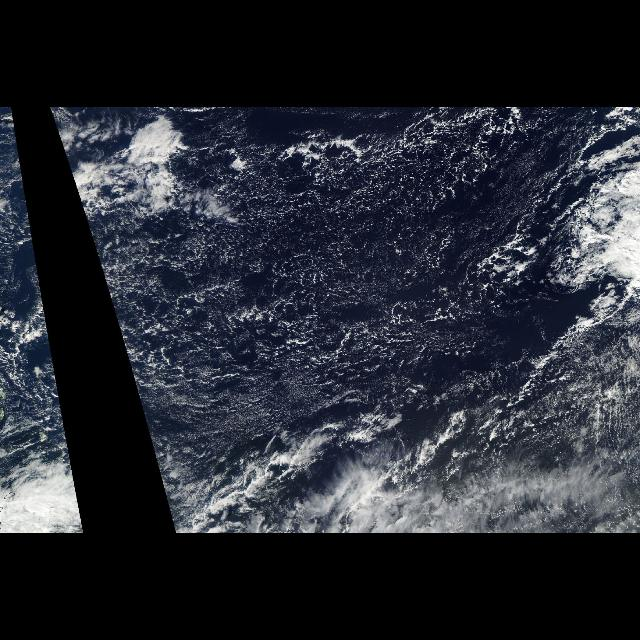Sugar: (130, 168, 498, 418)
